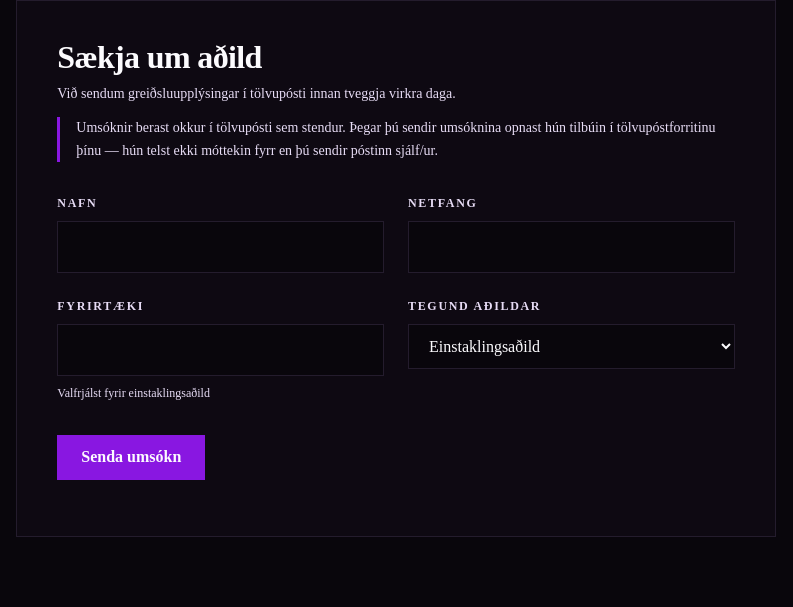
Test: MembershipForm (is) › rejects an address that is not one
Type "Anna" into the field labelled "Nafn".
click(221, 247); type("Anna")  # box x1=57 y1=221 x2=384 y2=273
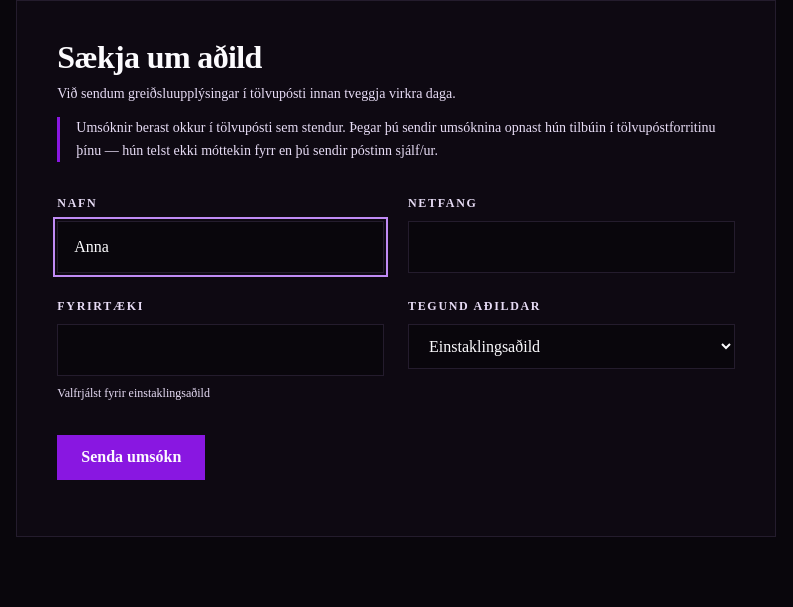
Type "anna@" into the field labelled "Netfang".
click(571, 247); type("anna@")  # box x1=408 y1=221 x2=735 y2=273
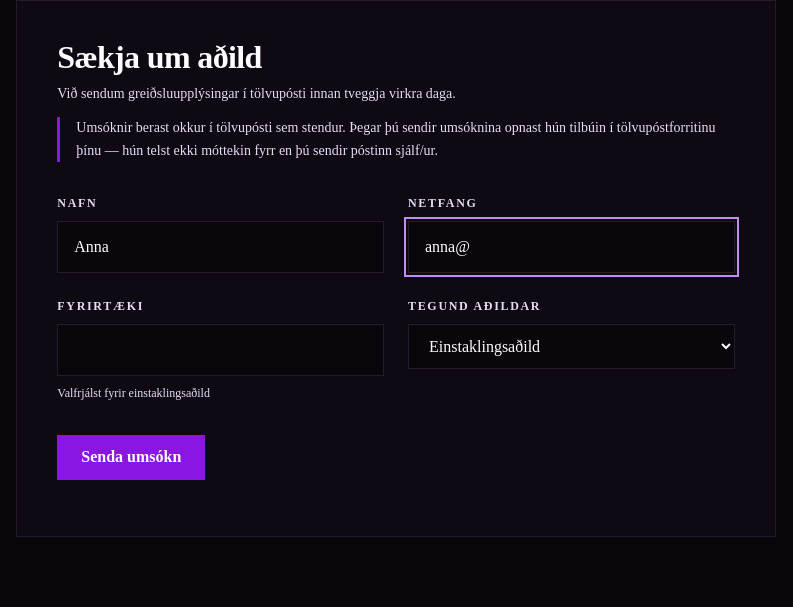
Click the button "Senda umsókn".
click(131, 457)  # box x1=57 y1=435 x2=205 y2=480
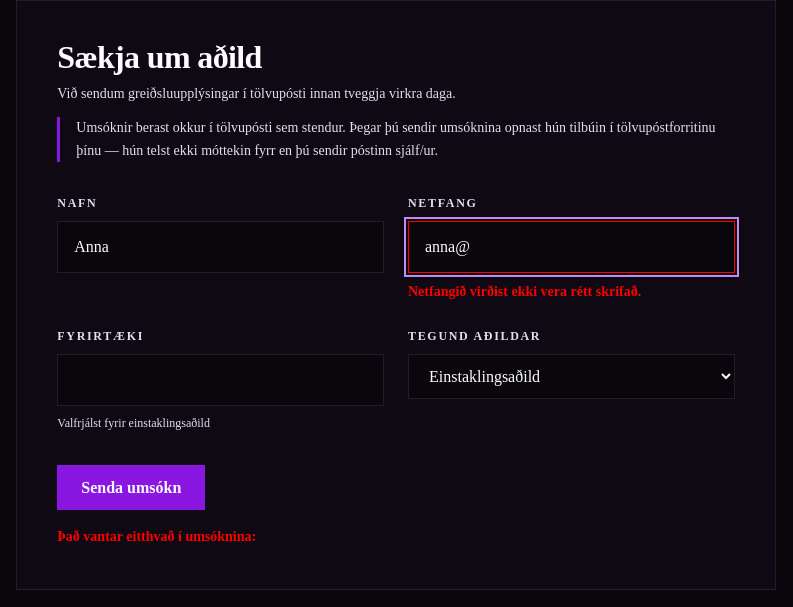
Expected: the text "Netfangið virðist ekki vera rétt skrifað." is shown, x1=408 y1=284 x2=641 y2=299
